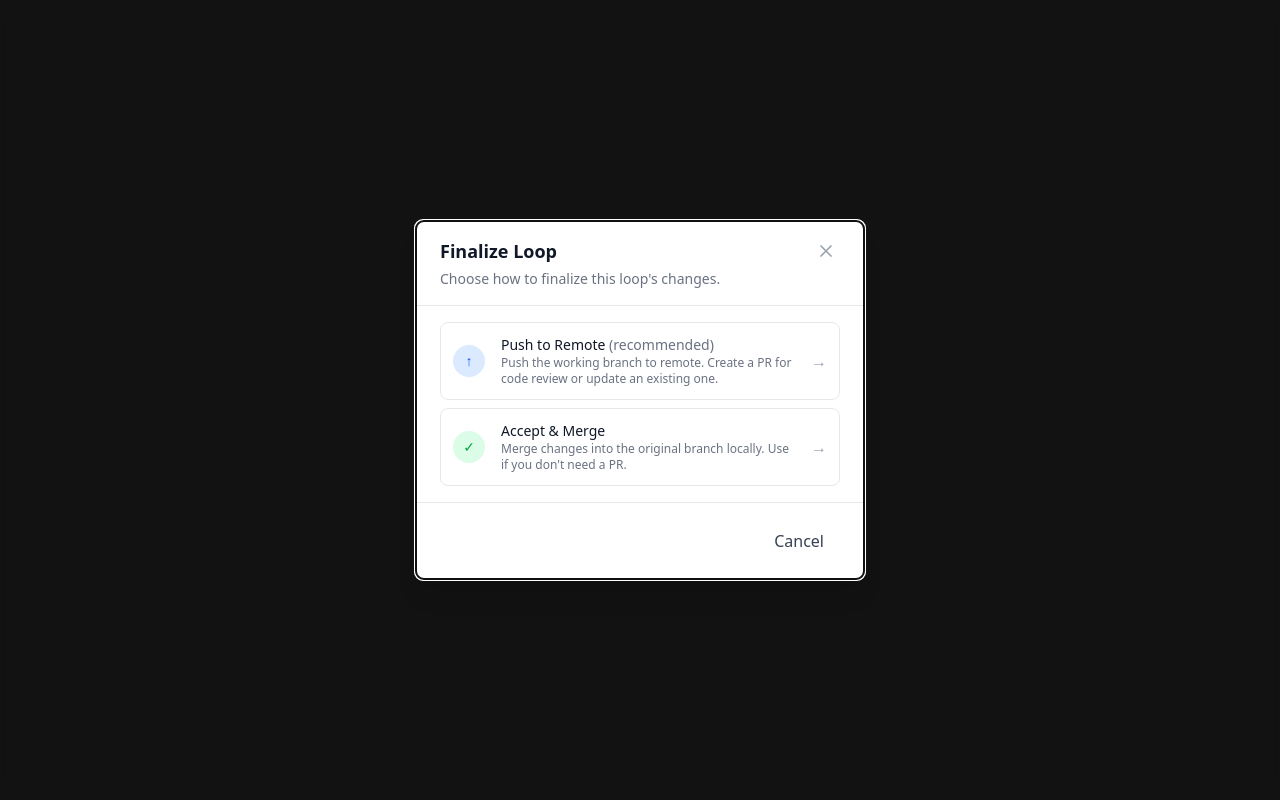
Test: AcceptLoopModal › loading state › disables buttons while pushing
Click the button "Push to Remote" at (640, 361), box [440, 322, 840, 400]
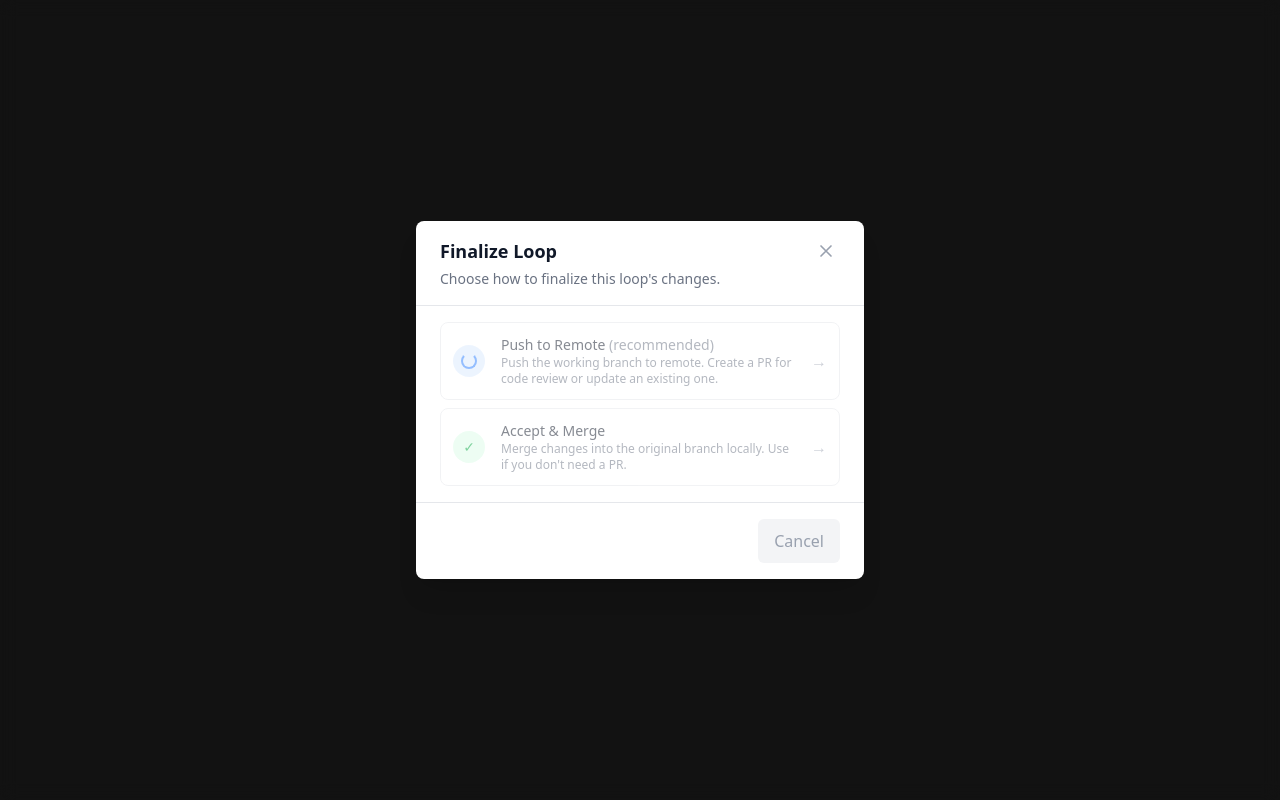
Check: the button "Push to Remote" is disabled, box [440, 322, 840, 400]
Check: the button "Accept & Merge" is disabled, box [440, 408, 840, 486]
